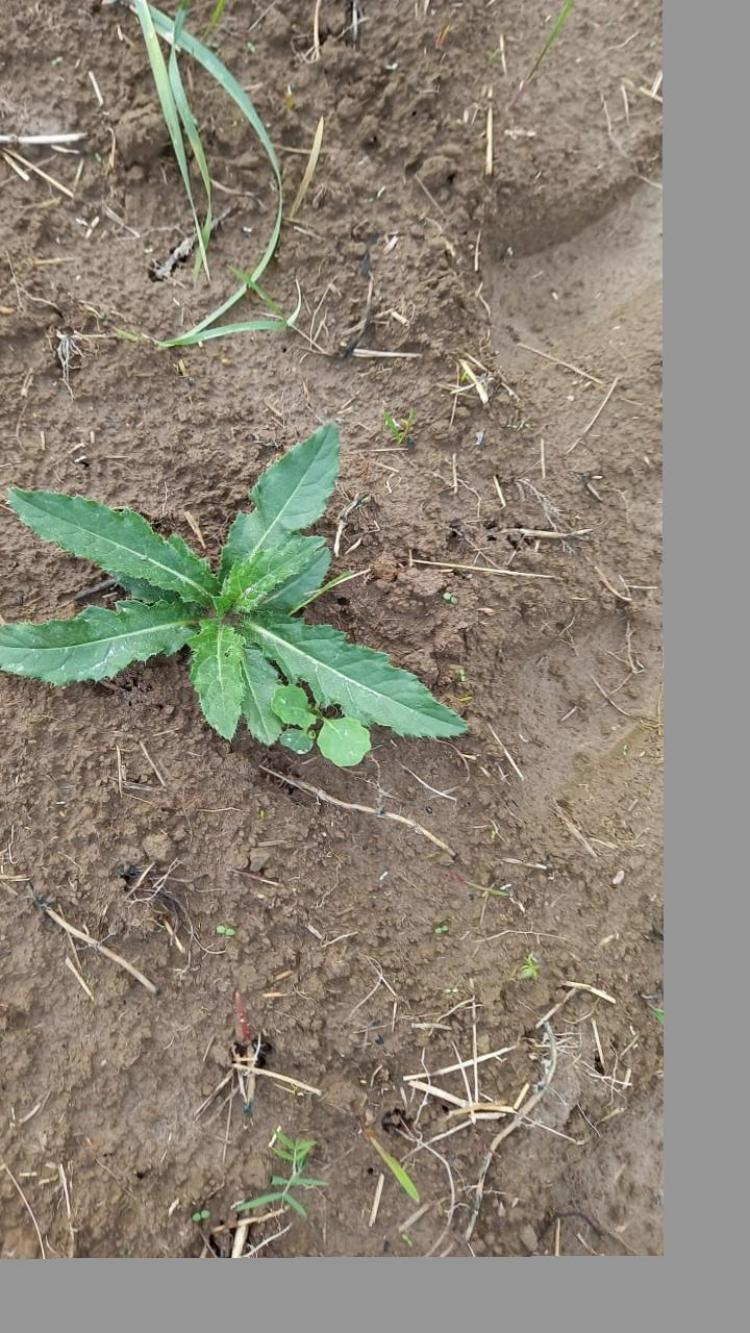osot: (4, 421, 477, 775)
